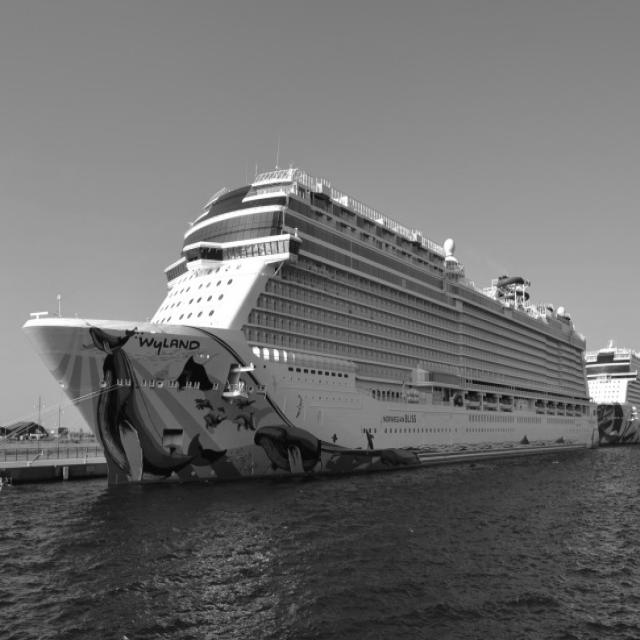cruises: (19, 161, 604, 502)
